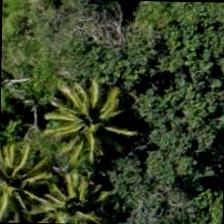Kelapa_Sawit: (47, 78, 139, 170), (29, 163, 121, 223), (0, 137, 50, 223)
